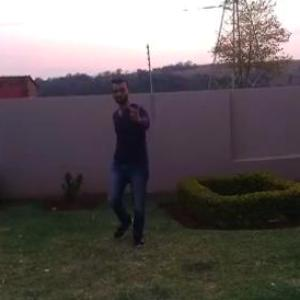takeoff-hand: (127, 97, 146, 125)
